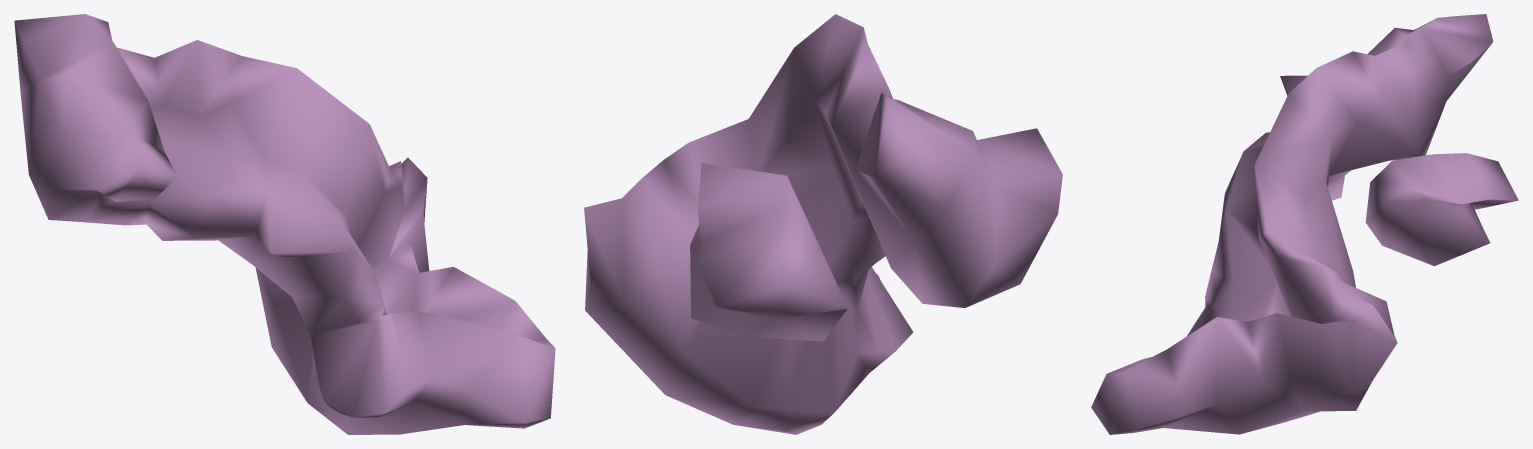
The picture shows the model from 3 angles, left to right: view 1: azimuth 30°, elevation 25°; view 2: azimuth 150°, elevation 25°; view 3: azimuth 270°, elevation 25°; orthographic projection. The views are drawn at different scales.
Visible parts, largest first — view 1: 左侧月状沟; view 2: 左侧月状沟; view 3: 左侧月状沟.
Boxes of the visible parts, left/top/right/bottom form: 左侧月状沟: left=14, top=14, right=555, bottom=434; 左侧月状沟: left=584, top=14, right=1062, bottom=434; 左侧月状沟: left=1091, top=14, right=1518, bottom=434.
Size of the model in its own units: 0.032 by 0.0309 by 0.0354.
